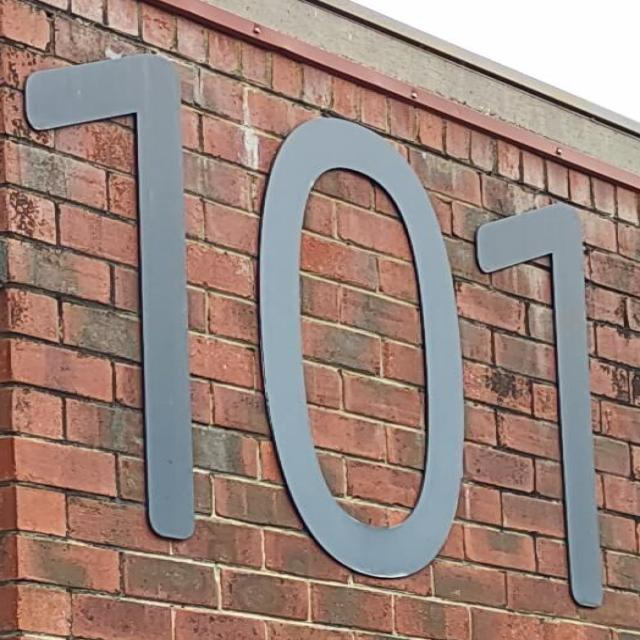character: (247, 112, 474, 582), (15, 45, 203, 544), (471, 194, 619, 622)
